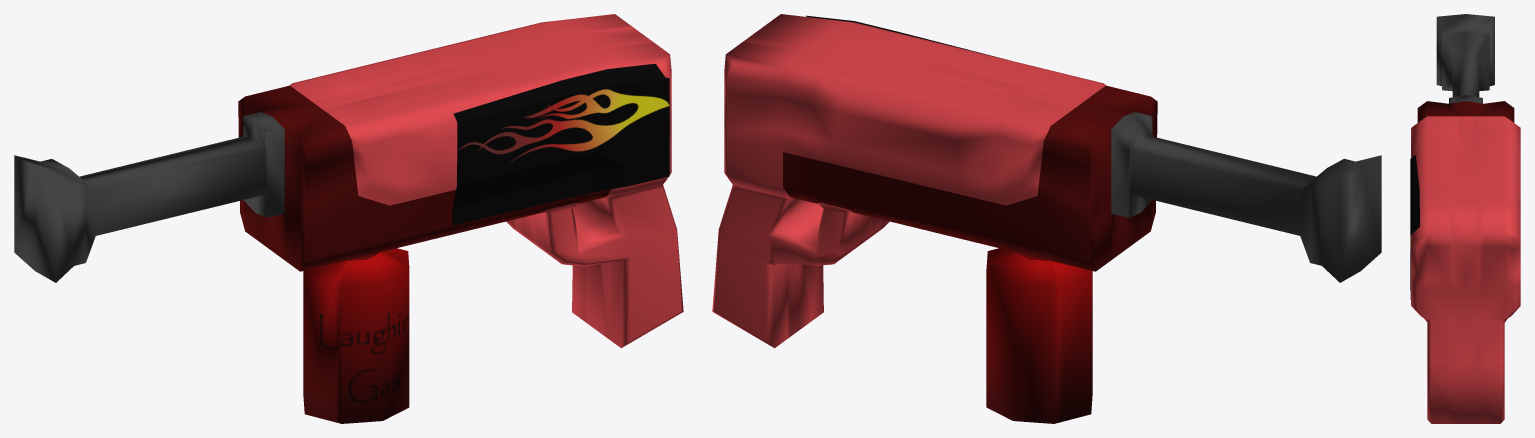
The model's file is EvilGun.fbx.
The picture shows the model from 3 angles, left to right: view 1: azimuth 30°, elevation 25°; view 2: azimuth 150°, elevation 25°; view 3: azimuth 270°, elevation 25°; orthographic projection. The views are drawn at different scales.
Parts seen in each view (by area): view 1: pCube1, 6269020592542877200_1; view 2: pCube1; view 3: pCube1, 6269020592542877200_1.
Part boxes in pixels (left/top/right/bottom): pCube1: left=14, top=14, right=683, bottom=423; 6269020592542877200_1: left=452, top=64, right=669, bottom=225; pCube1: left=712, top=14, right=1381, bottom=423; pCube1: left=1411, top=14, right=1520, bottom=423; 6269020592542877200_1: left=1410, top=155, right=1419, bottom=299.
Size of the model in its own units: 390 by 187 by 85.2.
